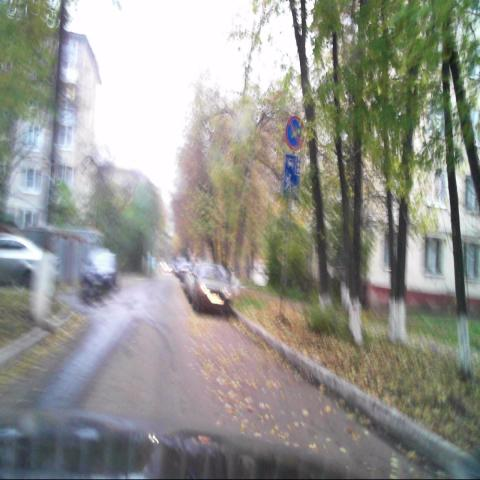3_28: (286, 116, 304, 151)
5_21: (283, 155, 301, 196)
